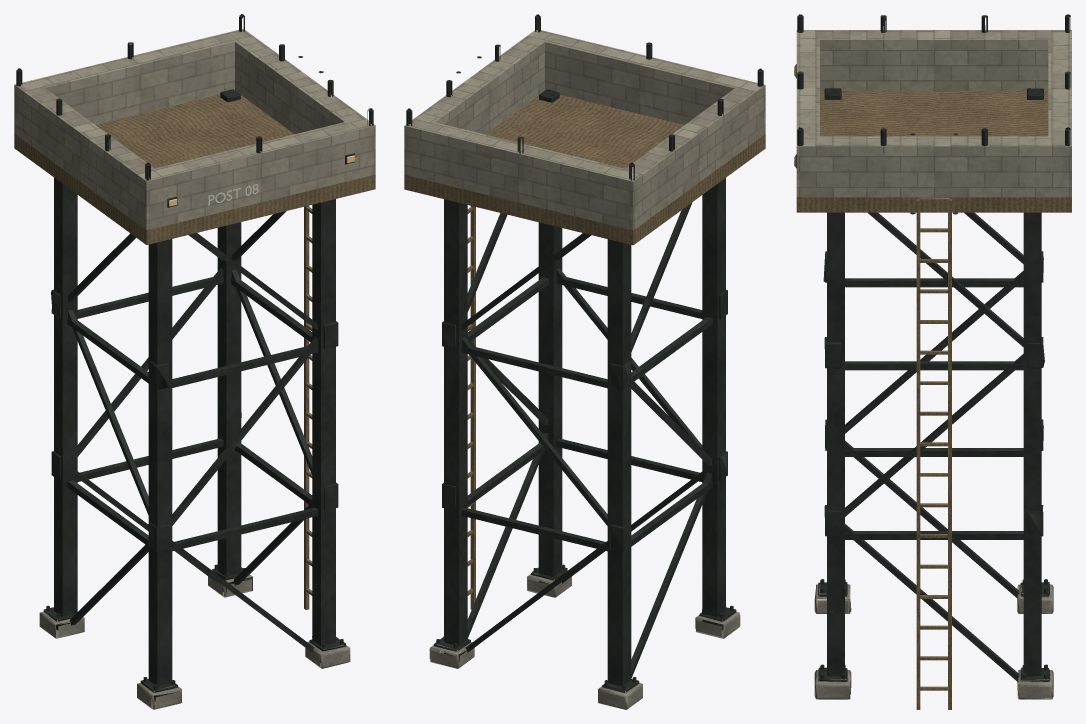
The model's file is watchtower.glb.
3 renders of one model, left to right at view 1: azimuth 30°, elevation 25°; view 2: azimuth 150°, elevation 25°; view 3: azimuth 270°, elevation 25°, orthographic. The views are drawn at different scales.
Visible parts, largest first — view 1: Building_steel.004, parts.002, parts.001, Building_concrete.004, Building_bronze.004; view 2: Building_steel.004, parts.002, parts.001, Building_concrete.004, Building_bronze.004; view 3: parts.002, Building_steel.004, parts.001, Building_bronze.004, Building_concrete.004.
Part boxes in pixels (x1,y1,x2,y2): Building_steel.004: [16, 14, 373, 701]; parts.002: [14, 28, 375, 230]; parts.001: [14, 94, 375, 609]; Building_concrete.004: [39, 570, 350, 709]; Building_bronze.004: [46, 89, 343, 689]; Building_steel.004: [406, 14, 763, 692]; parts.002: [404, 30, 765, 230]; parts.001: [404, 95, 765, 609]; Building_concrete.004: [429, 573, 740, 709]; Building_bronze.004: [436, 89, 733, 689]; parts.002: [796, 30, 1071, 197]; Building_steel.004: [795, 14, 1070, 681]; parts.001: [796, 91, 1071, 709]; Building_bronze.004: [820, 88, 1047, 679]; Building_concrete.004: [814, 584, 1053, 699].
Size of the model in its own units: 5.04 by 11.38 by 4.95.
Materials: 6 (4 with a texture image).
